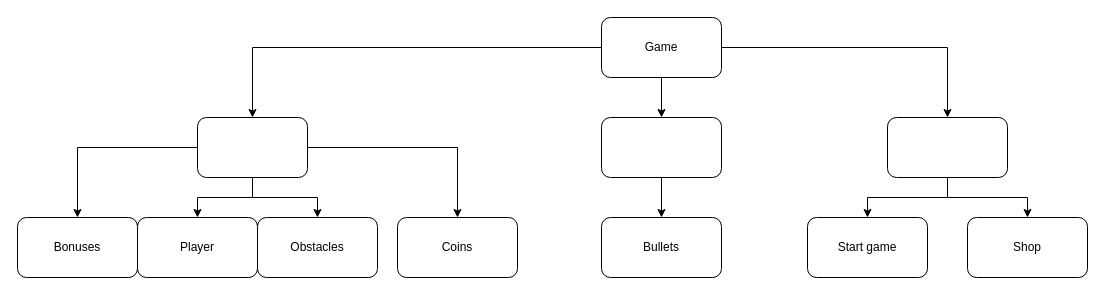
This 1105x295 diagram has some shape labels left out. Each missing label, with the centre of its shape:
"Map" belongs at [252,147].
"Menu" belongs at [947,147].
"Objects" belongs at [661,147].
